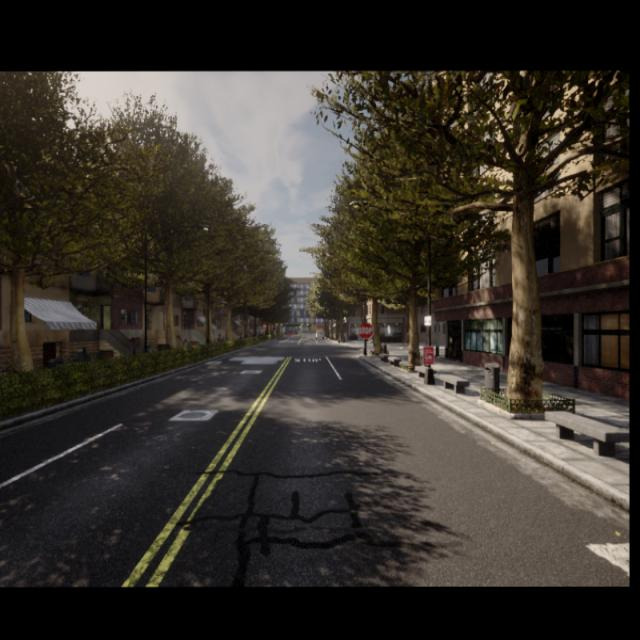stop sign: (355, 317, 376, 356), (356, 320, 374, 340)
